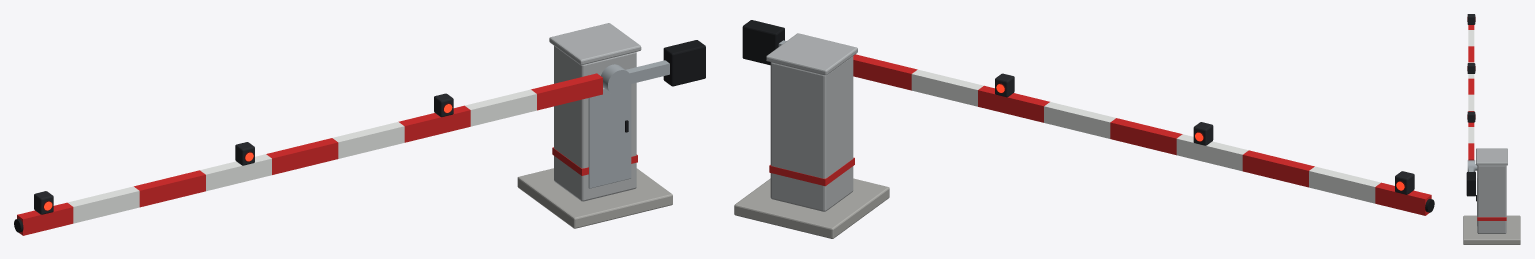
Rendered from TK_RailwayBarrier.glb.
3 renders of one model, left to right at view 1: azimuth 30°, elevation 25°; view 2: azimuth 150°, elevation 25°; view 3: azimuth 270°, elevation 25°, orthographic. The views are drawn at different scales.
Parts seen in each view (by area): view 1: Boom, Cabinet, Foundation, CabinetDoor, CabinetLid, Counterweight, Hub, CounterArm; view 2: Boom, Cabinet, Foundation, CabinetLid, Counterweight, WarningBand; view 3: Cabinet, Foundation, Boom, CabinetLid, Counterweight, WarningBand, LampBody_0, LampBody_1, LampBody_2, Hub, CabinetDoor.
Part boxes in pixels (x1,y1,x2,y2): Boom: [17, 73, 602, 235]; Cabinet: [554, 46, 636, 201]; Foundation: [517, 168, 672, 228]; CabinetDoor: [588, 84, 631, 188]; CabinetLid: [549, 23, 641, 65]; Counterweight: [663, 40, 705, 86]; Hub: [601, 64, 631, 95]; CounterArm: [626, 60, 669, 83]; Boom: [853, 54, 1431, 215]; Cabinet: [770, 56, 853, 211]; Foundation: [734, 178, 889, 238]; CabinetLid: [766, 33, 857, 75]; Counterweight: [742, 20, 784, 65]; WarningBand: [769, 157, 854, 186]; Cabinet: [1477, 165, 1506, 233]; Foundation: [1463, 215, 1520, 244]; Boom: [1468, 25, 1474, 160]; CabinetLid: [1476, 148, 1507, 165]; Counterweight: [1466, 172, 1475, 196]; WarningBand: [1477, 217, 1506, 220]; LampBody_0: [1467, 111, 1475, 122]; LampBody_1: [1467, 63, 1475, 73]; LampBody_2: [1467, 14, 1475, 24]; Hub: [1467, 160, 1475, 171]; CabinetDoor: [1477, 171, 1477, 225].
Size of the model in its own units: 5.17 by 1.13 by 0.75.
